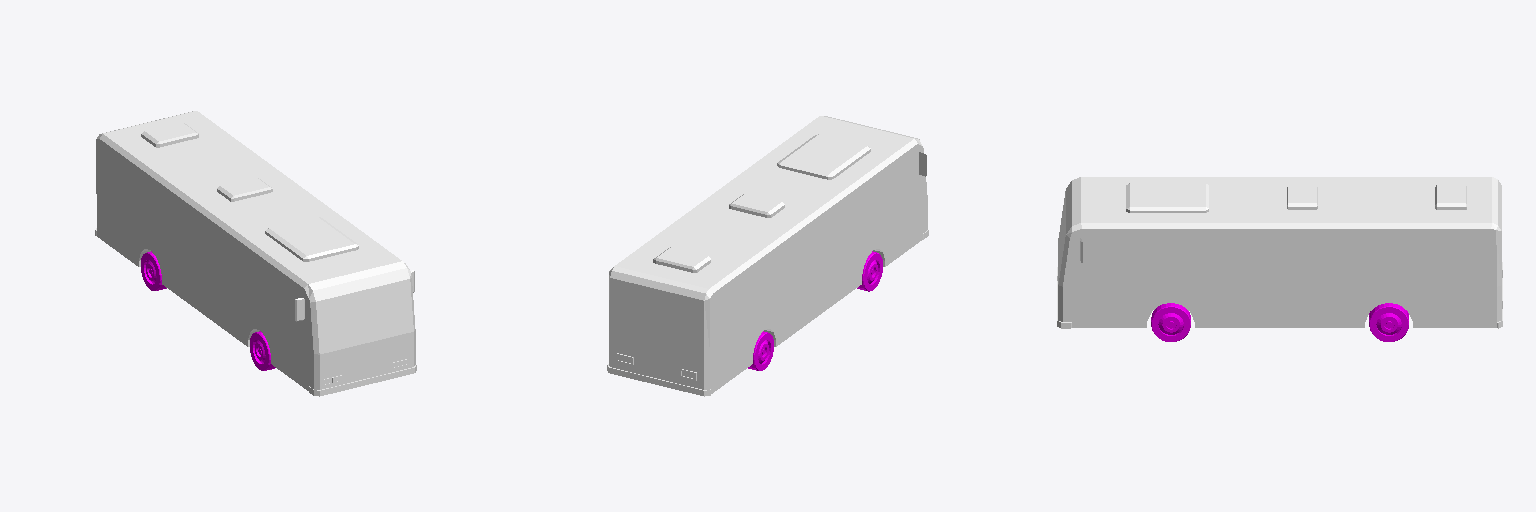
The model's file is bus.obj.
3 views of the same model, side by side, from view 1: azimuth 30°, elevation 25°; view 2: azimuth 150°, elevation 25°; view 3: azimuth 270°, elevation 25° (orthographic).
Visible parts, largest first — view 1: Cube_1, front_wheel_3; view 2: Cube_1, front_wheel_3; view 3: Cube_1, front_wheel_3.
Part boxes in pixels (x1,y1,x2,y2): Cube_1: (95,111,416,396); front_wheel_3: (141,251,275,370); Cube_1: (607,116,928,396); front_wheel_3: (748,251,882,370); Cube_1: (1057,177,1502,328); front_wheel_3: (1151,303,1408,341).
Bounding box in the file's own units: 119 × 117 × 383.